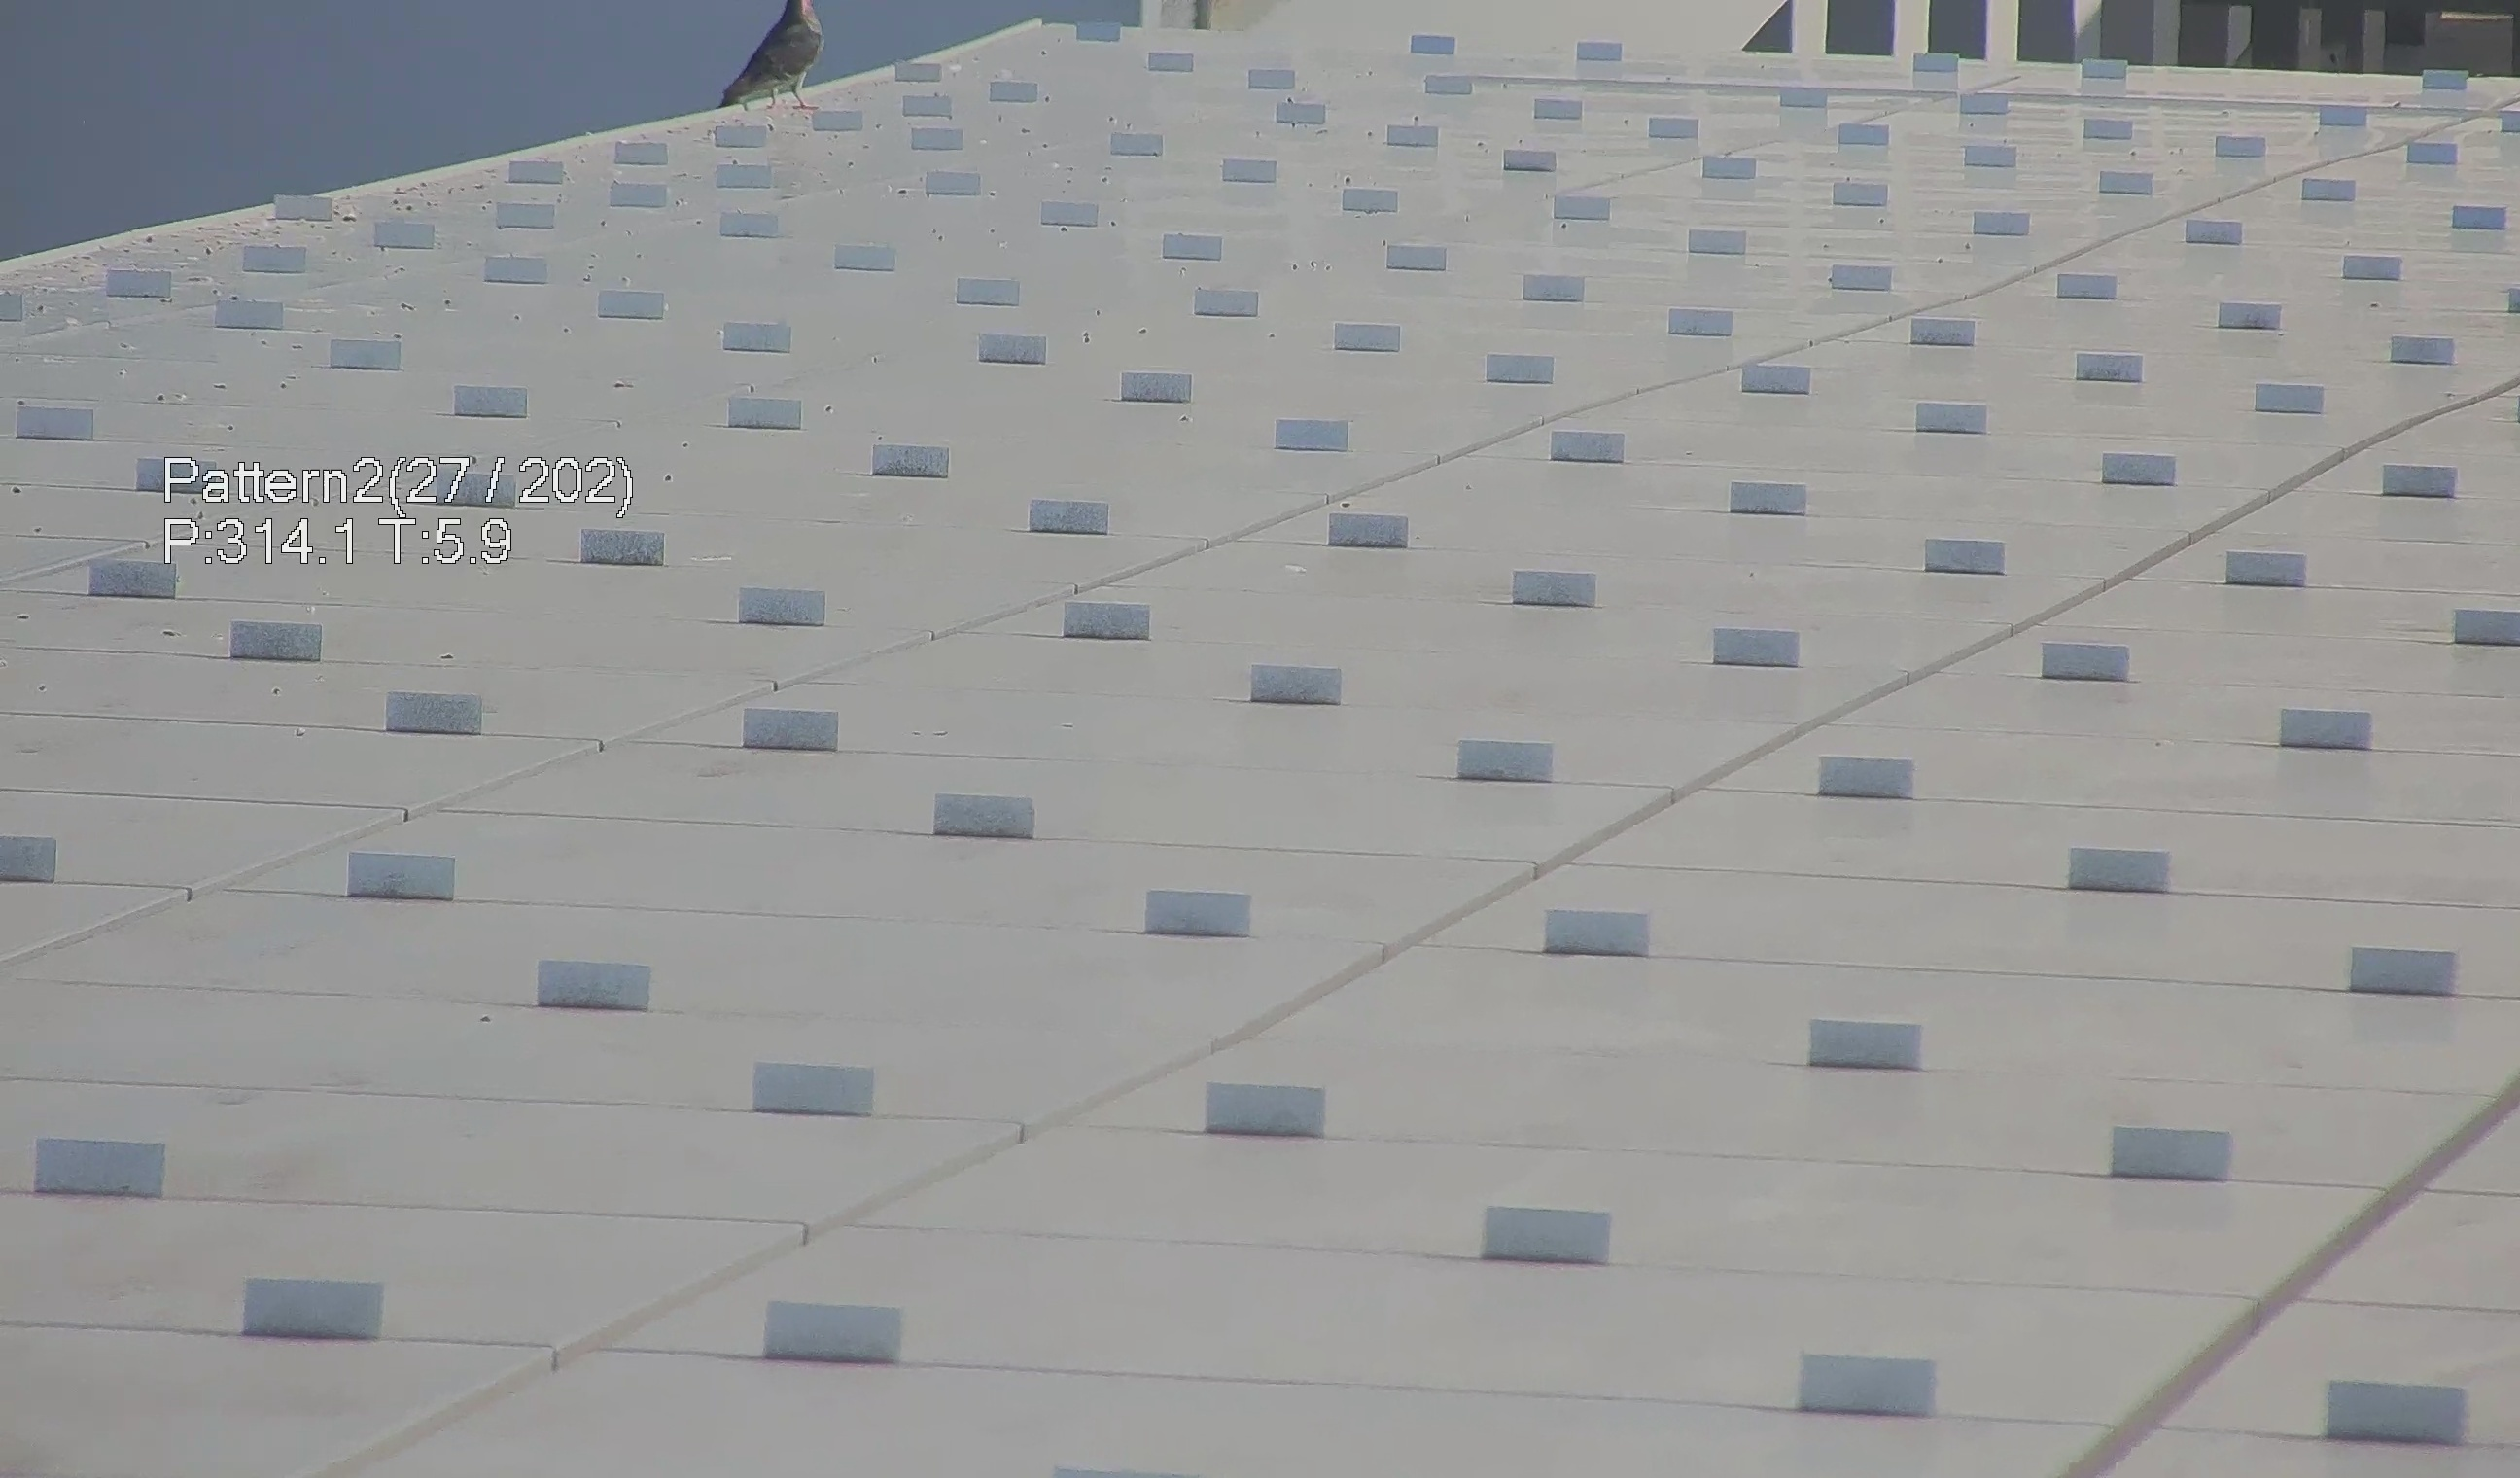Pigeon: (696, 0, 821, 125)
